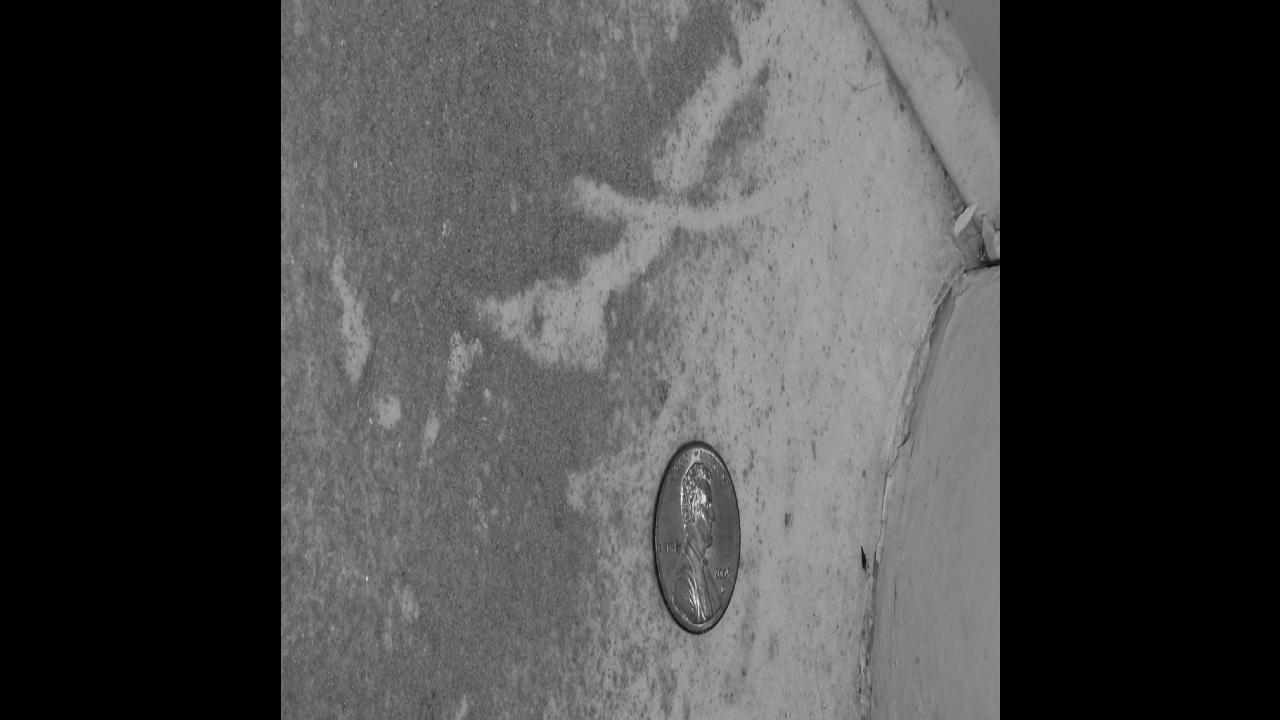coin: (650, 444, 740, 634)
